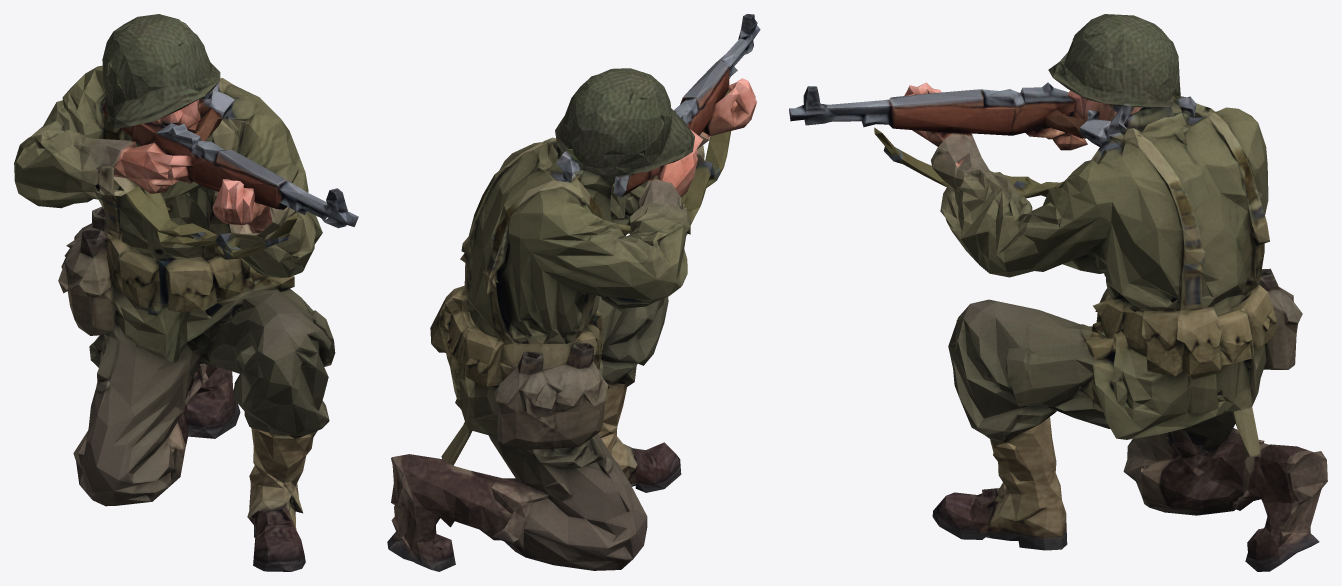
File: ally_us_kneel.glb
The picture shows the model from 3 angles, left to right: view 1: azimuth 30°, elevation 25°; view 2: azimuth 150°, elevation 25°; view 3: azimuth 270°, elevation 25°; orthographic projection. The views are drawn at different scales.
Visible parts, largest first — view 1: geometry_0; view 2: geometry_0; view 3: geometry_0.
Boxes of the visible parts, x1,y1,x2,y2 form: geometry_0: [14, 14, 358, 571]; geometry_0: [387, 14, 760, 571]; geometry_0: [789, 14, 1327, 571].
Bounding box in the file's own units: 0.55 × 0.9997 × 1.
Materials: 1 (1 with a texture image).
